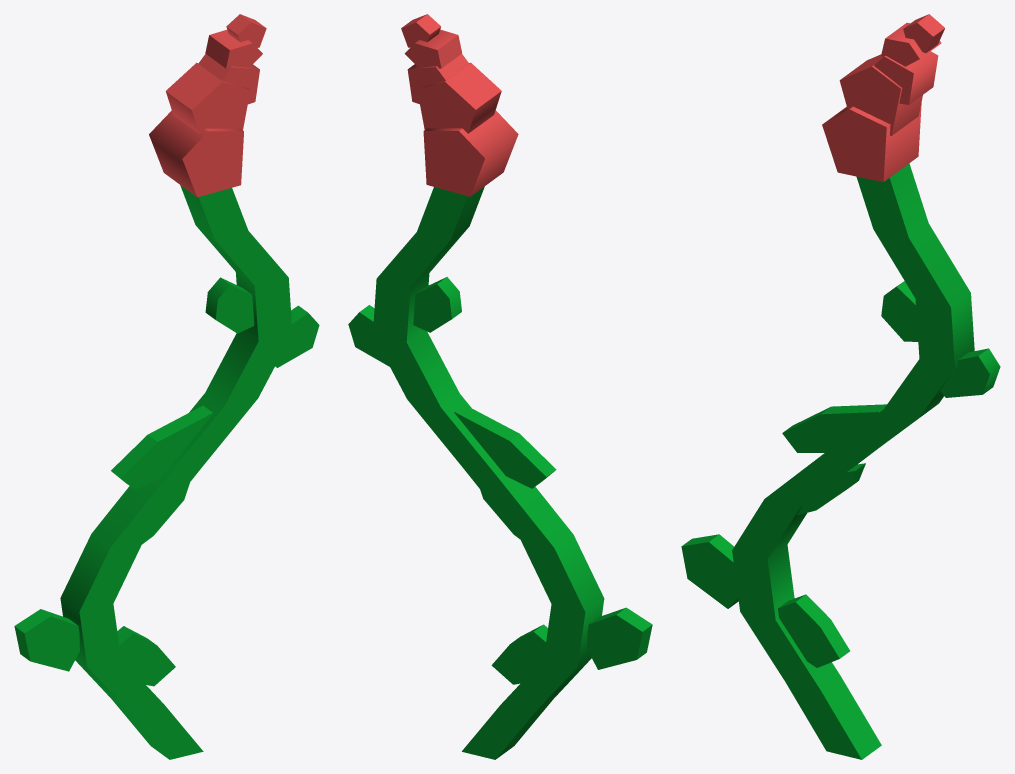
Rendered from snakeflower1.fbx.
The picture shows the model from 3 angles, left to right: view 1: azimuth 30°, elevation 25°; view 2: azimuth 150°, elevation 25°; view 3: azimuth 330°, elevation 25°; orthographic projection. The views are drawn at different scales.
Visible parts, largest first — view 1: SnakeFlowerHeadTransform1; view 2: SnakeFlowerHeadTransform1; view 3: SnakeFlowerHeadTransform1.
Boxes of the visible parts, x1=… form: SnakeFlowerHeadTransform1: x1=14, y1=14, x2=319, y2=759; SnakeFlowerHeadTransform1: x1=348, y1=14, x2=652, y2=759; SnakeFlowerHeadTransform1: x1=681, y1=14, x2=1000, y2=759.
Size of the model in its own units: 3.76 by 8.7 by 0.738.
